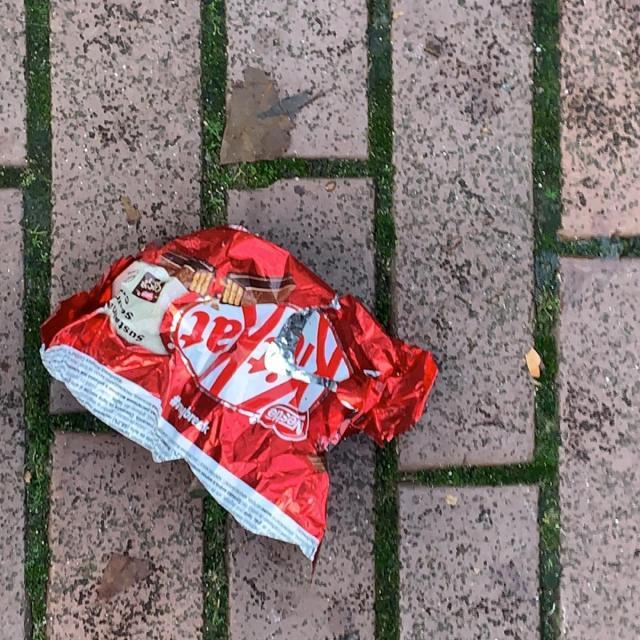Plastic: (36, 218, 441, 566)
